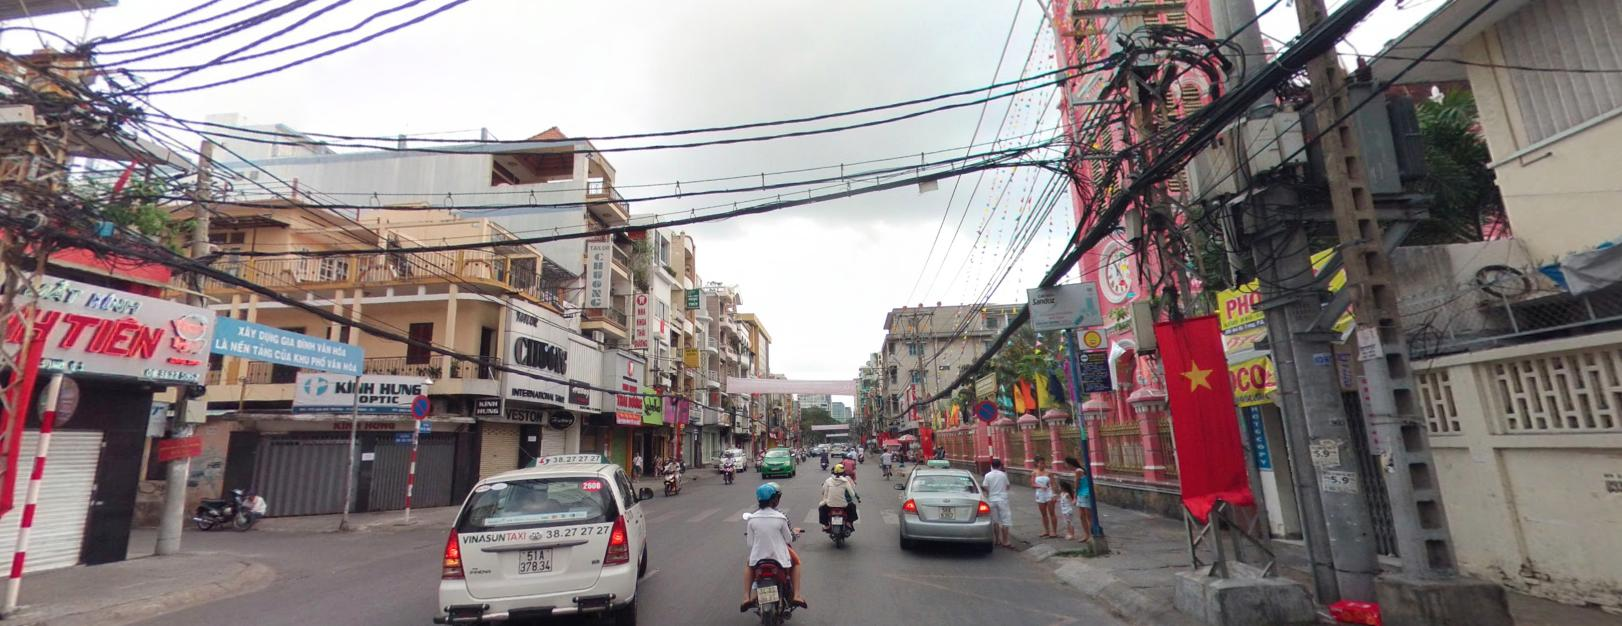Cam dung va do: (975, 398, 998, 421), (411, 392, 431, 417)
